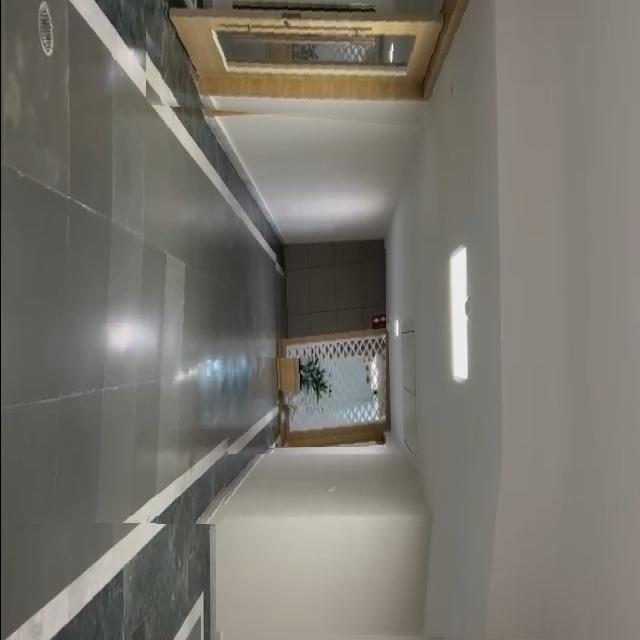door: (145, 0, 466, 130), (274, 249, 384, 447)
floor: (0, 198, 240, 524)
furniture: (274, 358, 328, 409)
wall: (215, 454, 608, 640)
